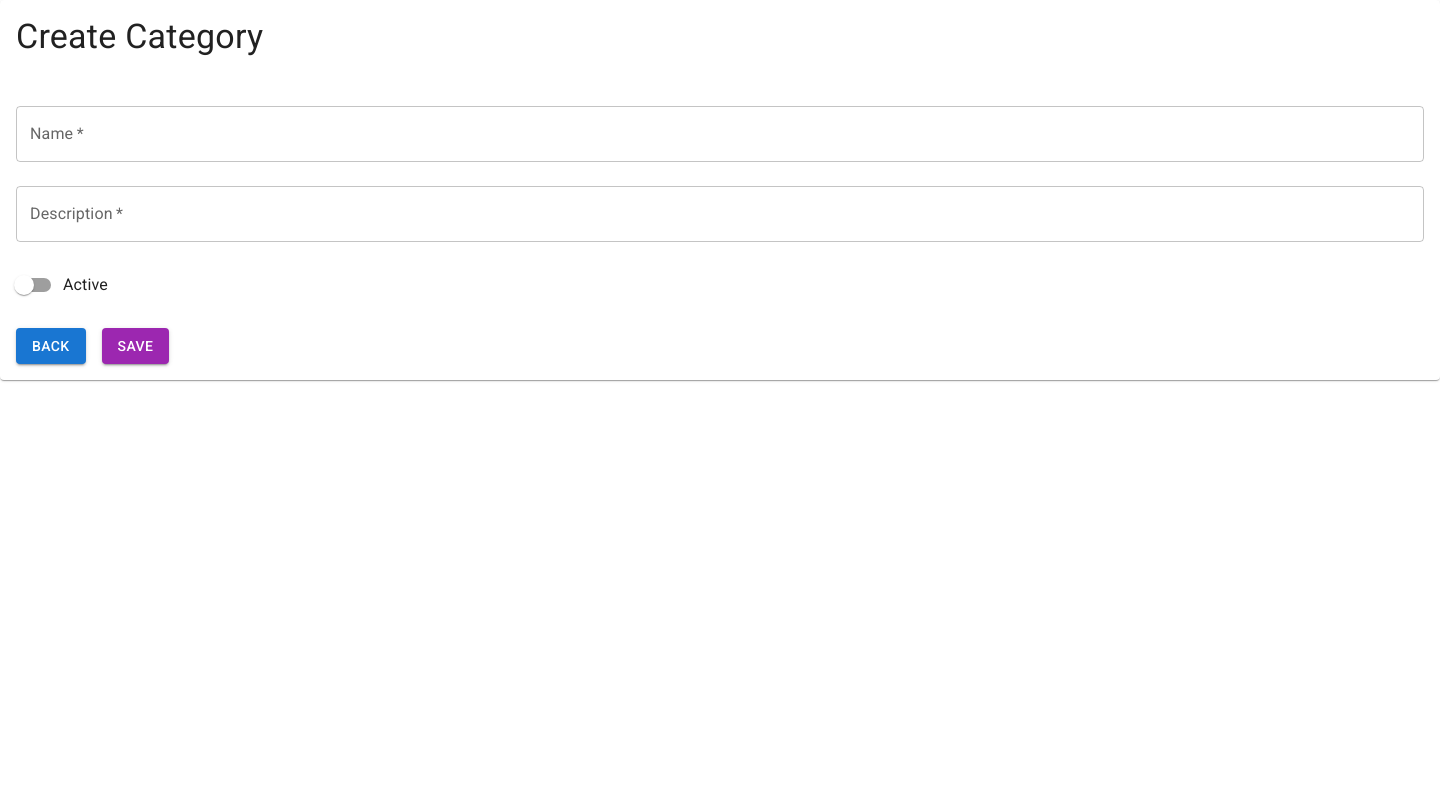
Test: Create category › should handle submit success
Type "Test" into the field with test id "textFieldName" at [720, 134], box x1=16 y1=106 x2=1424 y2=162
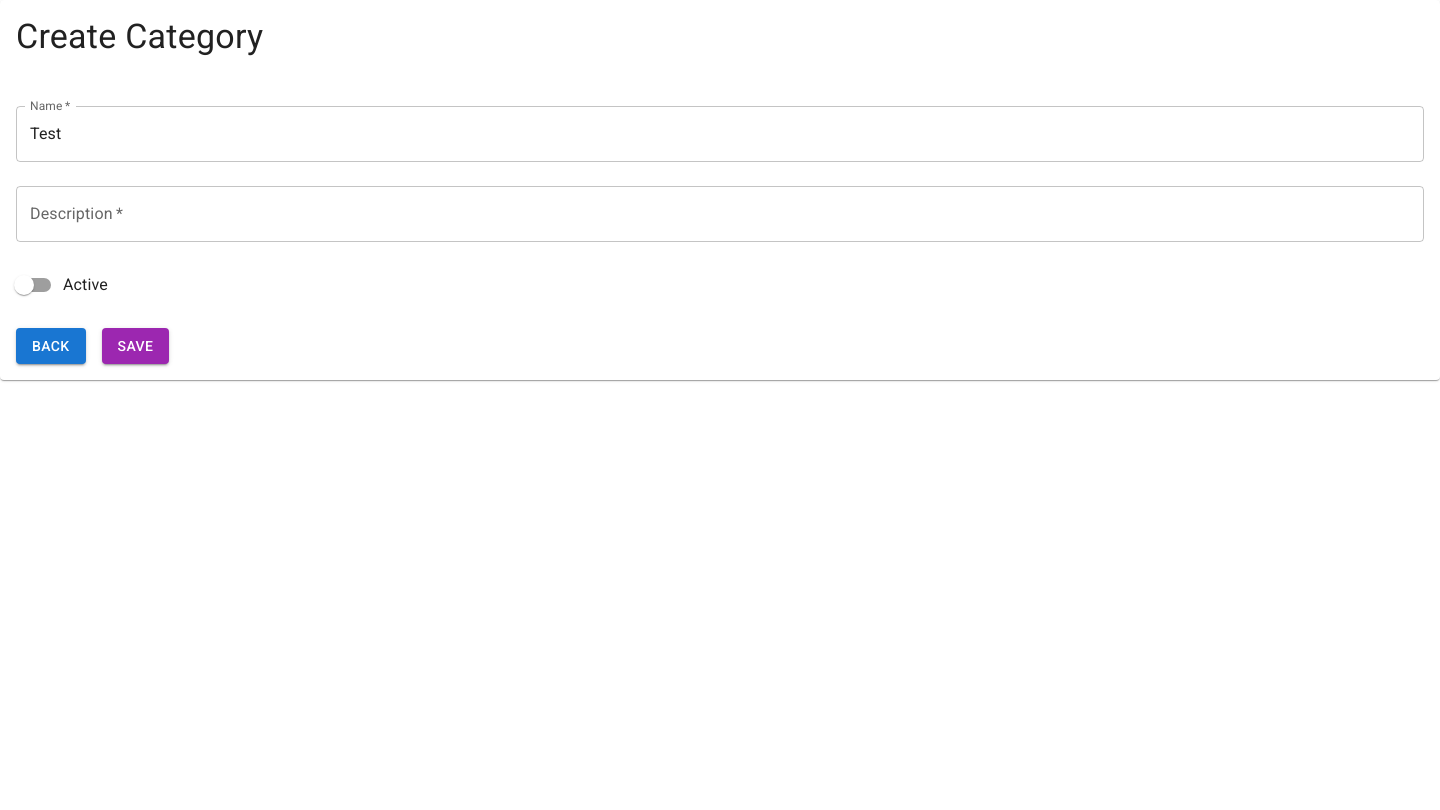
Type "Test description" into the field with test id "textFieldDescription" at [720, 214], box x1=16 y1=186 x2=1424 y2=242
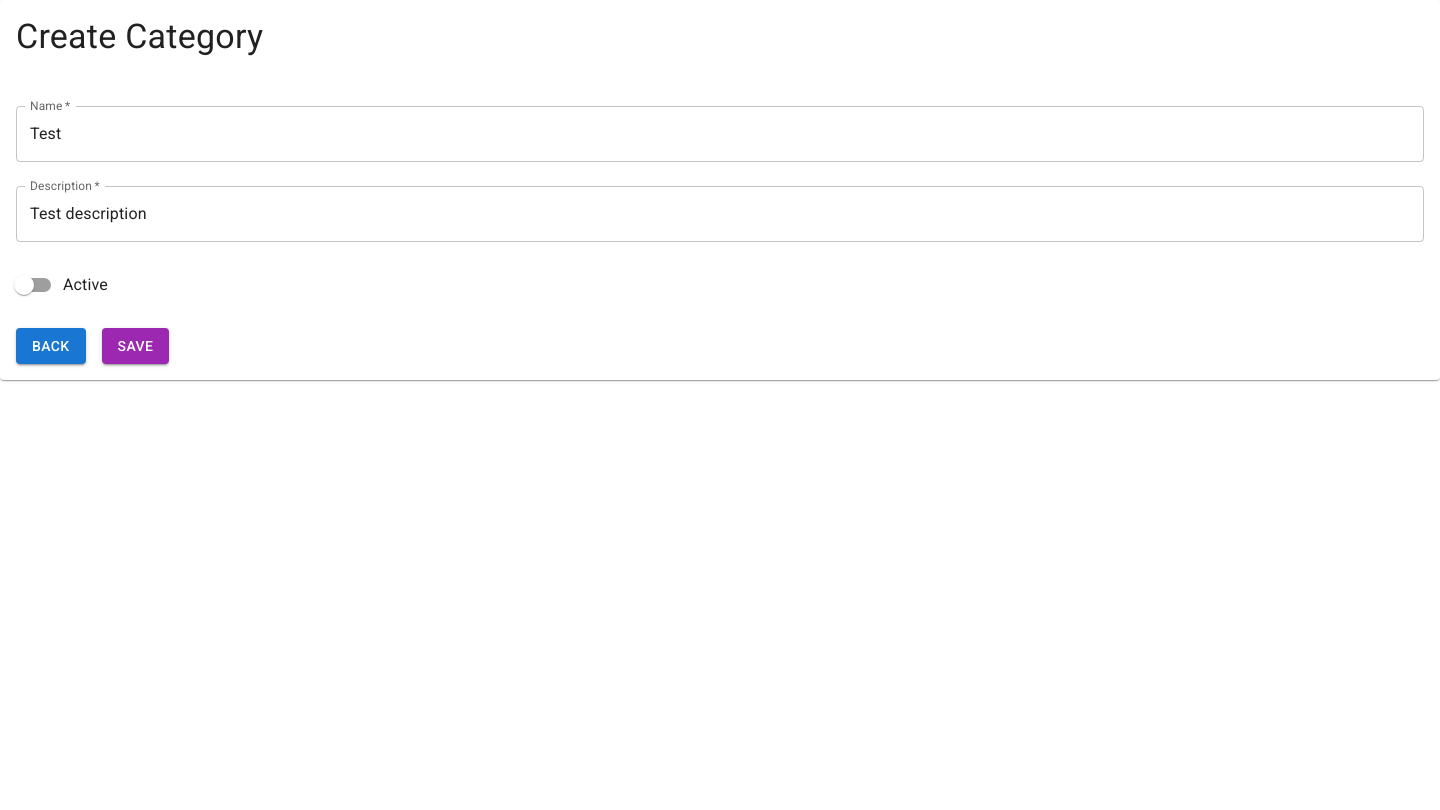
Click the button "Save" at [136, 346], box x1=102 y1=328 x2=169 y2=364
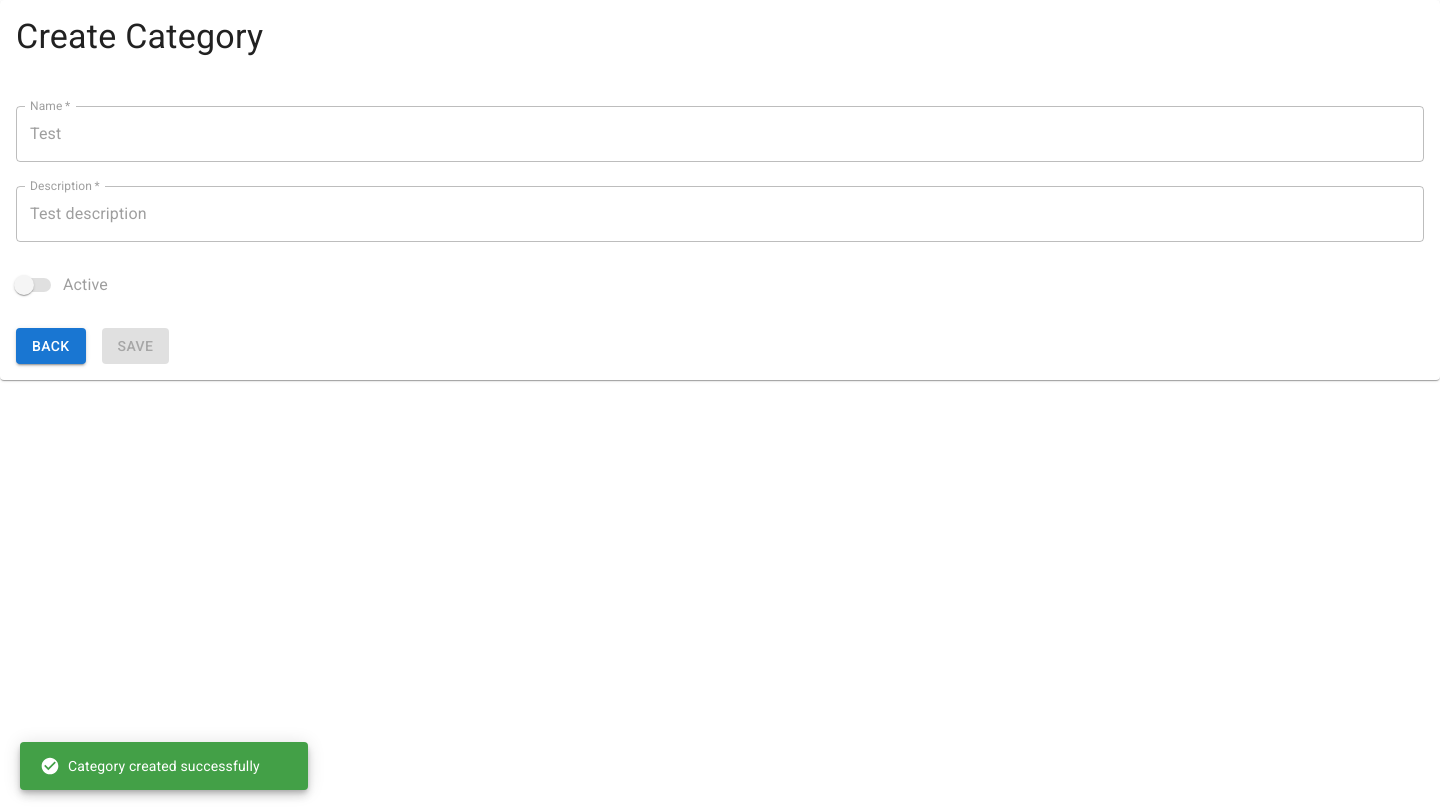
Now the text "Category created successfully" is shown, box x1=40 y1=756 x2=260 y2=776
